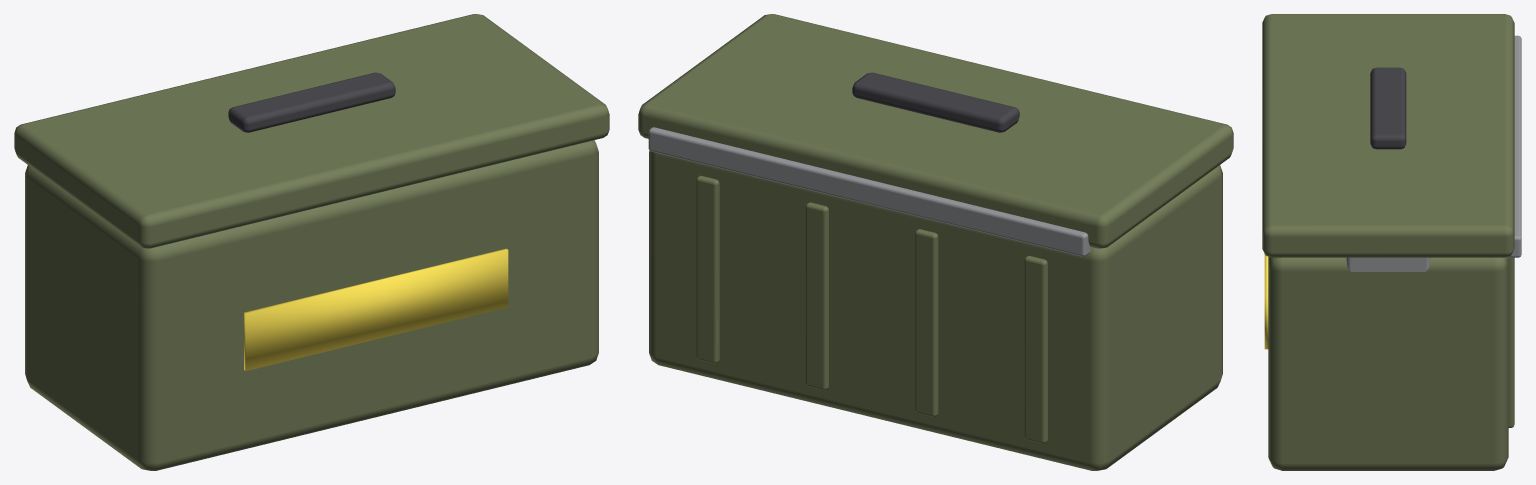
File: ammo.glb
3 views of the same model, side by side, from view 1: azimuth 30°, elevation 25°; view 2: azimuth 150°, elevation 25°; view 3: azimuth 270°, elevation 25° (orthographic). The views are drawn at different scales.
Parts seen in each view (by area): view 1: a_can, a_lid, a_stencil, a_handle; view 2: a_can, a_lid, a_hinge, a_handle, a_rib0, a_rib3, a_rib1, a_rib2; view 3: a_lid, a_can, a_handle, a_hinge, a_latch, a_rib3, a_stencil.
Boxes of the visible parts, x1,y1,x2,y2 form: a_can: [25, 140, 598, 470]; a_lid: [14, 14, 609, 248]; a_stencil: [244, 248, 508, 370]; a_handle: [228, 72, 395, 132]; a_can: [649, 150, 1222, 470]; a_lid: [638, 14, 1233, 248]; a_hinge: [648, 127, 1090, 256]; a_handle: [852, 72, 1019, 132]; a_rib0: [1024, 255, 1047, 443]; a_rib3: [696, 175, 719, 363]; a_rib1: [915, 229, 938, 416]; a_rib2: [805, 202, 828, 390]; a_lid: [1262, 14, 1514, 257]; a_can: [1268, 256, 1508, 470]; a_handle: [1370, 67, 1406, 149]; a_hinge: [1508, 35, 1521, 257]; a_latch: [1346, 257, 1430, 271]; a_rib3: [1508, 257, 1514, 427]; a_stencil: [1264, 254, 1268, 349].
Bounding box in the file's own units: 0.43 × 0.247 × 0.216.
